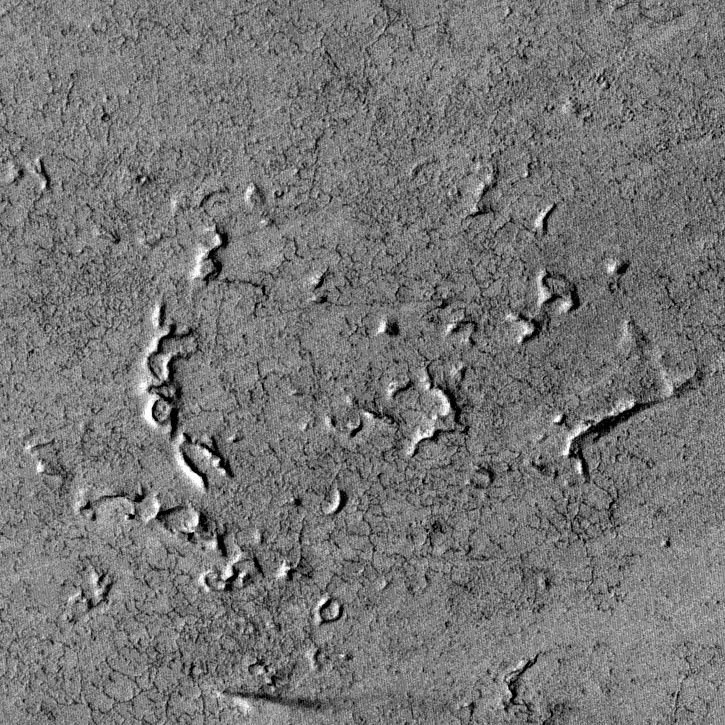dust_devil: (212, 687, 334, 717)
